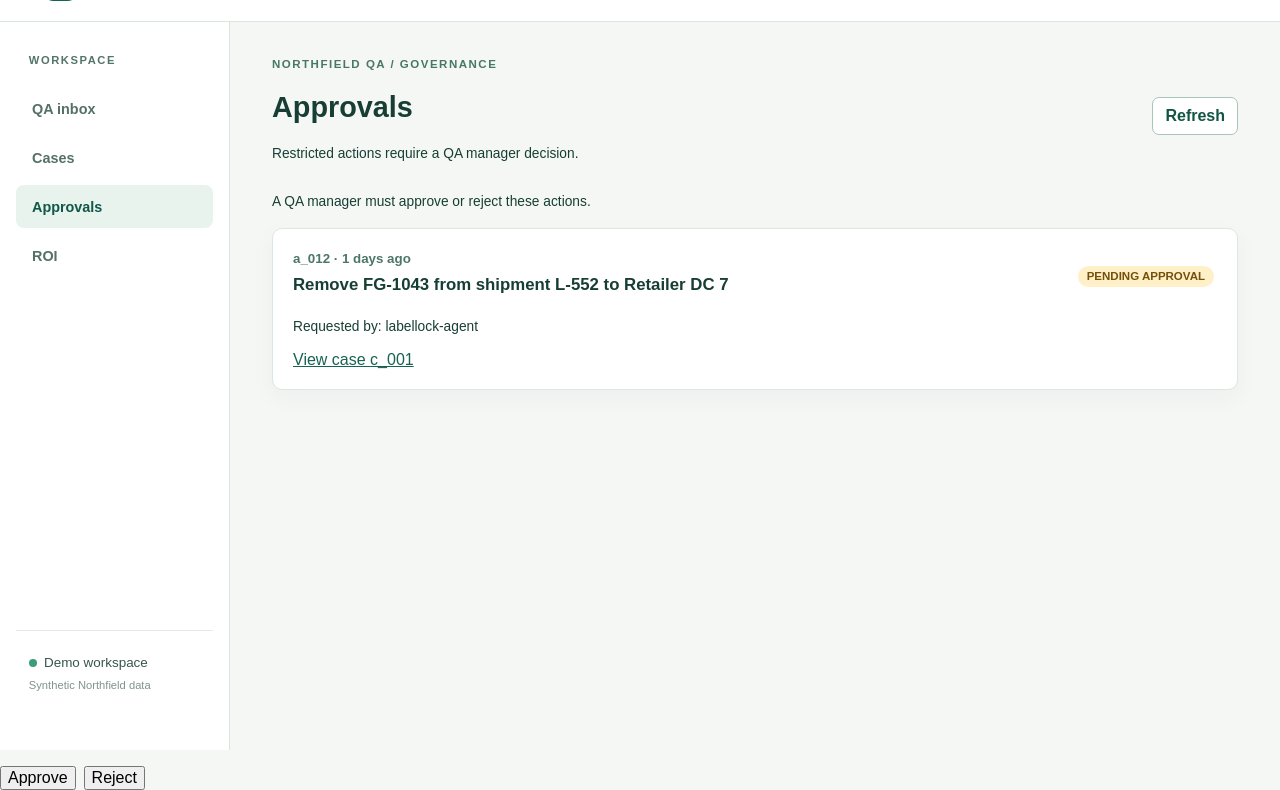
approvals queue › keeps specialist read only but exposes a forced API 403 with request ID
The image size is (1280, 790).
(page scrolled)
Expected: the text "A QA manager must approve or reject these actions." is shown, [272,194,591,209]
Click the button "Approve": (38, 778) [0,766,76,789]
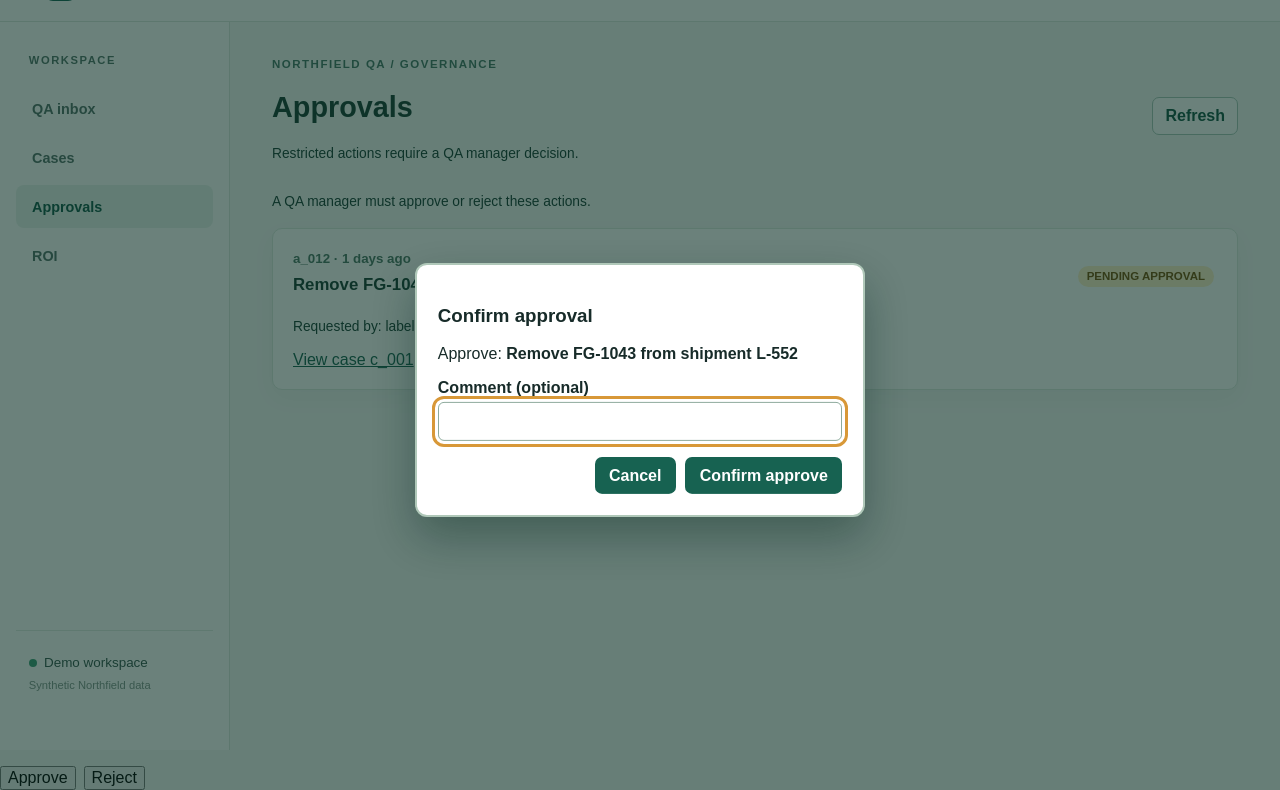
Click the button "Confirm approve": (764, 476) [685,457,842,494]
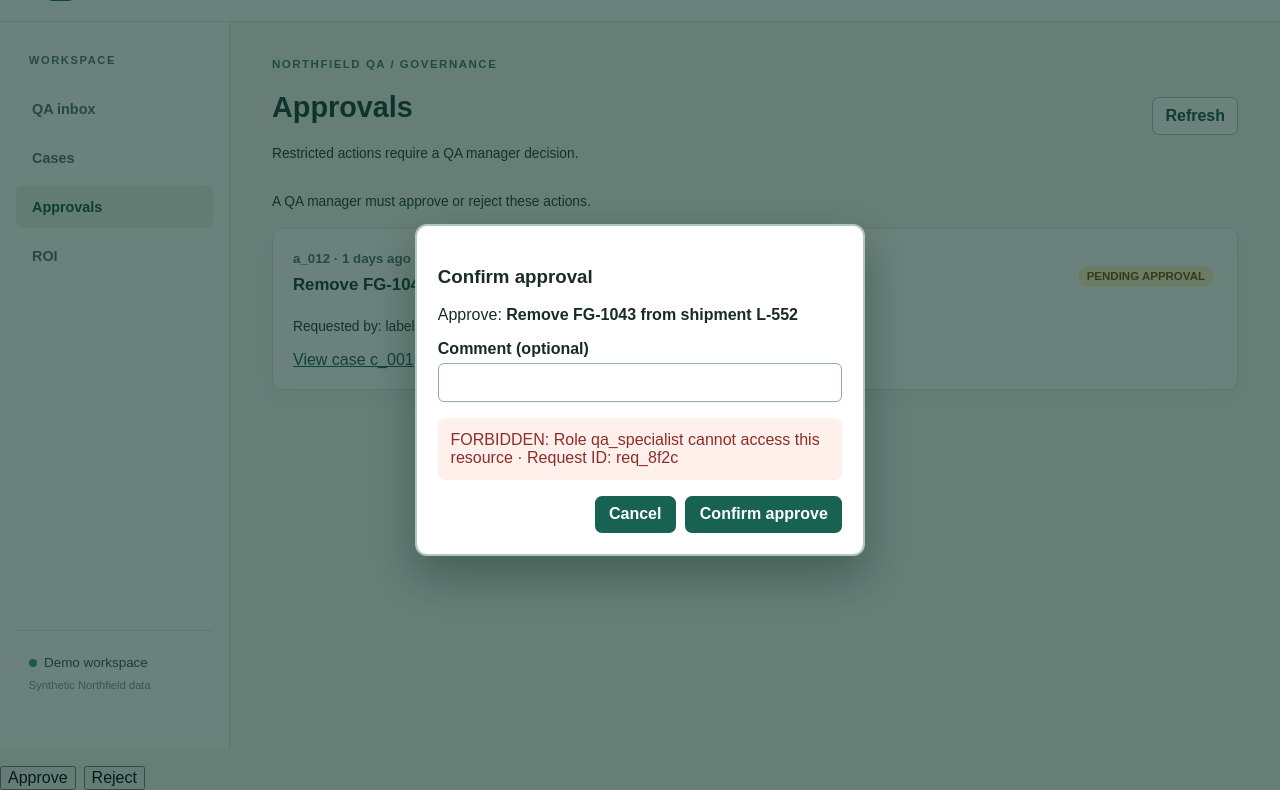
Now the message shows "FORBIDDEN", box [451,431,820,466]
Now the message shows "Request ID: req_", box [451,431,820,466]
